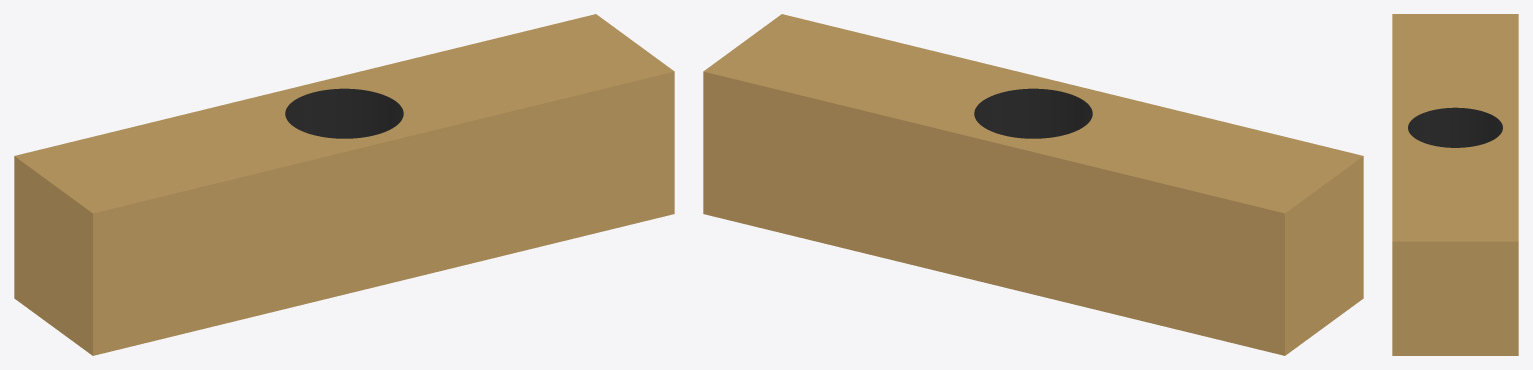
Rendered from Hollow_ground.glb.
3 views of the same model, side by side, from view 1: azimuth 30°, elevation 25°; view 2: azimuth 150°, elevation 25°; view 3: azimuth 270°, elevation 25° (orthographic). The views are drawn at different scales.
Visible parts, largest first — view 1: Ground; view 2: Ground; view 3: Ground.
Boxes of the visible parts, x1,y1,x2,y2 form: Ground: (14, 14, 674, 355); Ground: (703, 14, 1363, 355); Ground: (1392, 14, 1518, 355).
Bounding box in the file's own units: 8.55 × 2 × 2.
